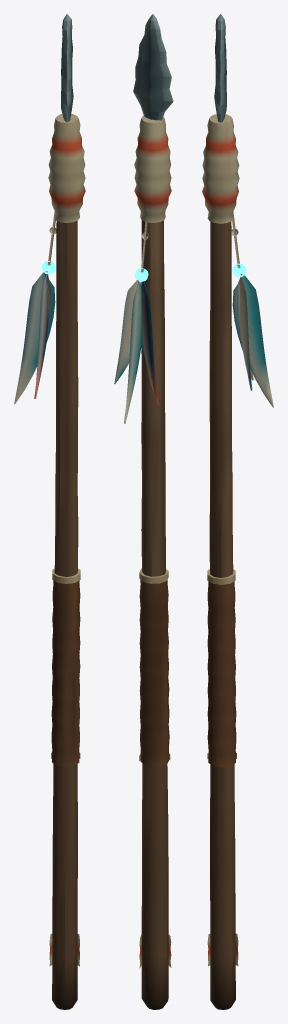
The model's file is spear.glb.
3 renders of one model, left to right at view 1: azimuth 90°, elevation 25°; view 2: azimuth 150°, elevation 25°; view 3: azimuth 270°, elevation 25°, orthographic.
Parts seen in each view (by area): view 1: Shaft, Spear; view 2: Shaft, Spear; view 3: Shaft, Spear.
Boxes of the visible parts, <box> form: Shaft: <box>49,220,80,1009</box>; Spear: <box>14,14,85,404</box>; Shaft: <box>139,220,171,1009</box>; Spear: <box>114,14,173,423</box>; Shaft: <box>207,221,238,1009</box>; Spear: <box>202,14,273,407</box>.
Size of the model in its own units: 0.0692 by 1.48 by 0.0966.
